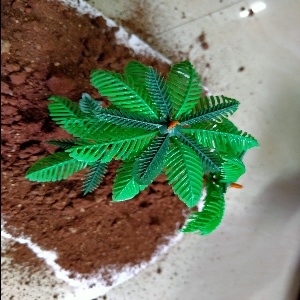plant: (29, 64, 250, 238)
